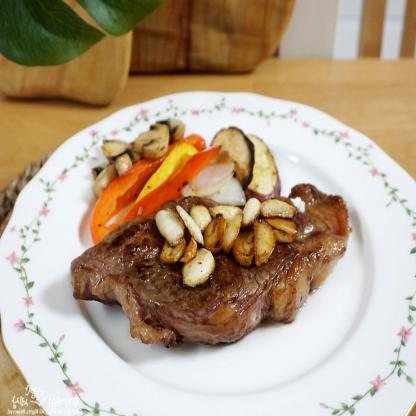Carne: (74, 188, 352, 336)
